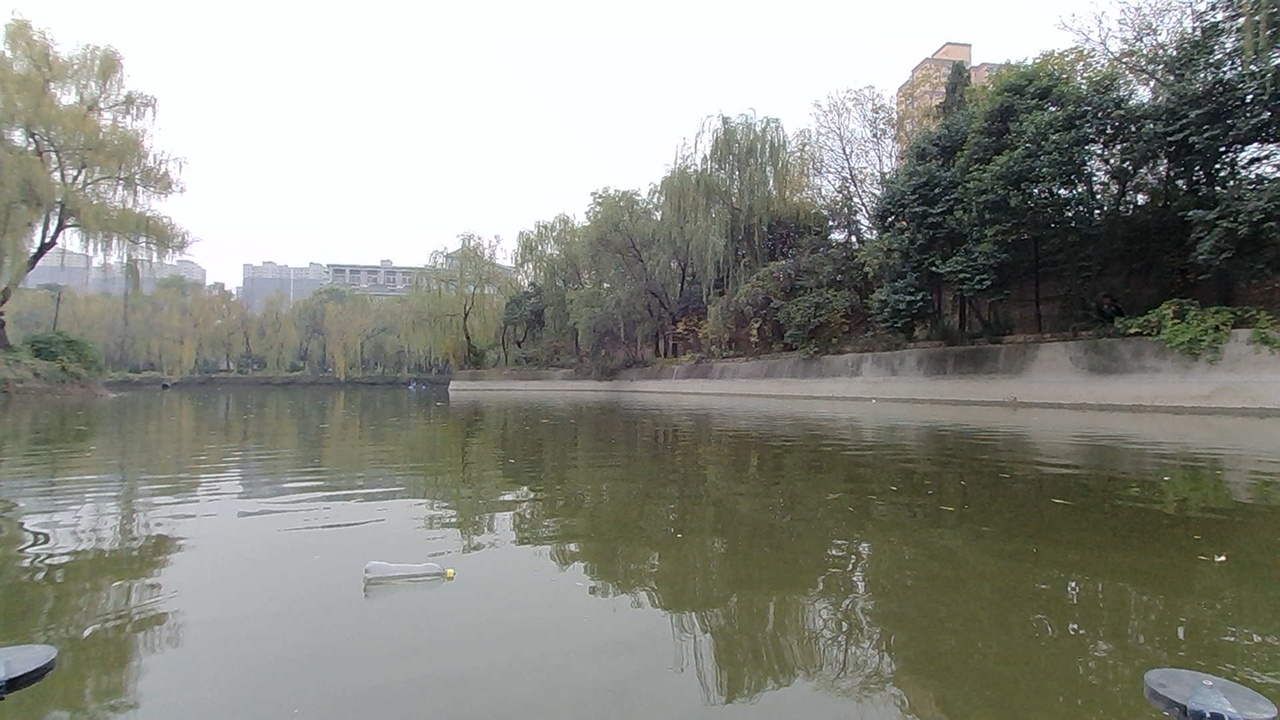bottle: (353, 548, 450, 606)
